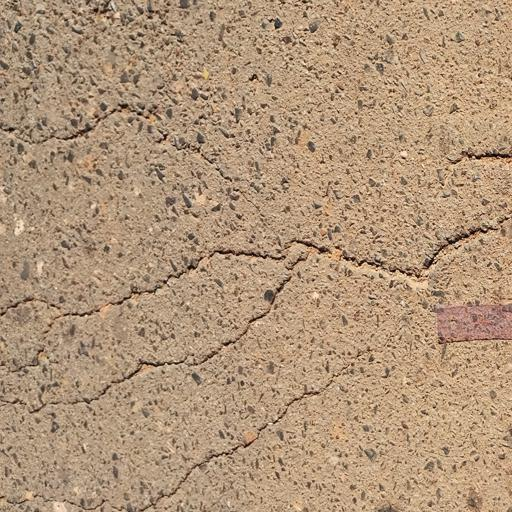GRIETA: (138, 365, 349, 511), (63, 298, 275, 403), (0, 249, 283, 317), (0, 104, 226, 175), (317, 212, 511, 280), (10, 315, 58, 373), (274, 256, 308, 296), (1, 399, 61, 414), (449, 150, 511, 162)
